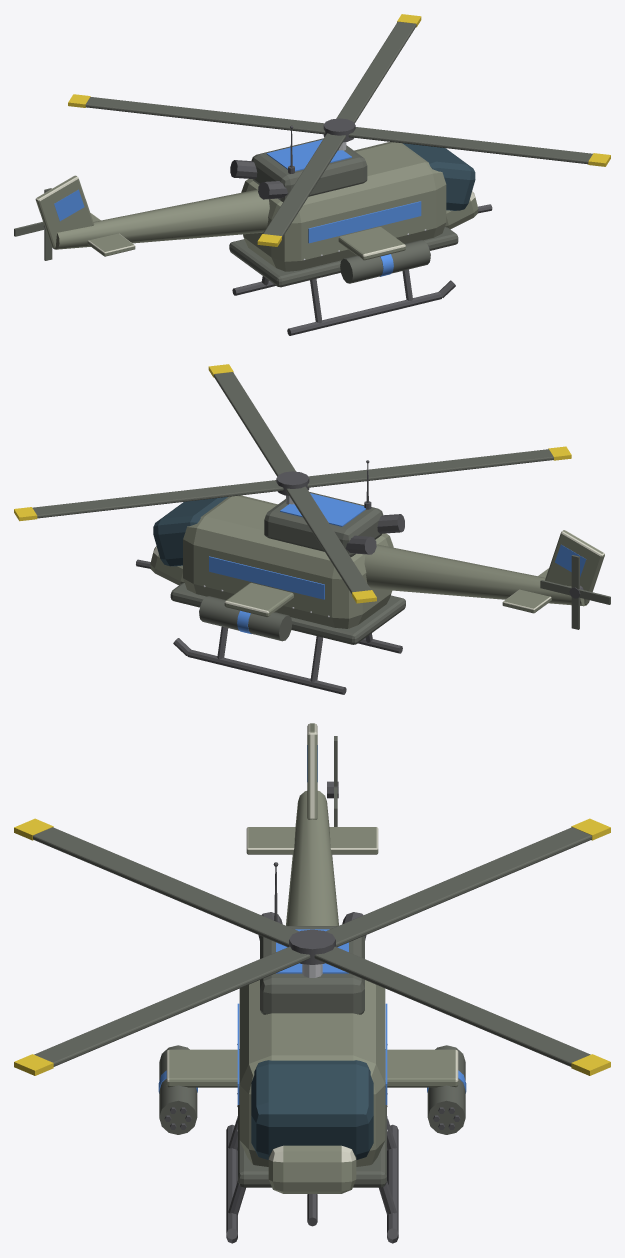
The model's file is gunship_blue.glb.
The picture shows the model from 3 angles, top to bottom: view 1: azimuth 30°, elevation 25°; view 2: azimuth 150°, elevation 25°; view 3: azimuth 270°, elevation 25°; orthographic projection. The views are drawn at different scales.
Visible parts, largest first — view 1: Body, Rotor, TailRotor; view 2: Body, Rotor, TailRotor; view 3: Body, Rotor.
Part boxes in pixels (x1=…): Body: x1=35, y1=125, x2=492, y2=335; Rotor: x1=68, y1=14, x2=610, y2=246; TailRotor: x1=14, y1=188, x2=52, y2=260; Body: x1=136, y1=460, x2=604, y2=694; Rotor: x1=14, y1=364, x2=571, y2=603; TailRotor: x1=540, y1=555, x2=610, y2=629; Body: x1=158, y1=723, x2=466, y2=1243; Rotor: x1=14, y1=818, x2=610, y2=1075.
Bounding box in the file's own units: 5.72 × 2.16 × 4.09.
1 material, 1 textured.
